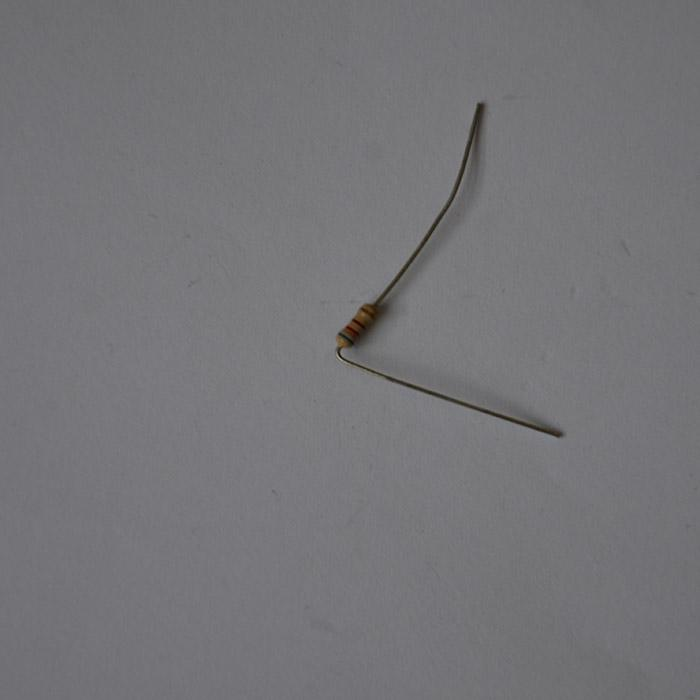resistor: (336, 302, 377, 349)
